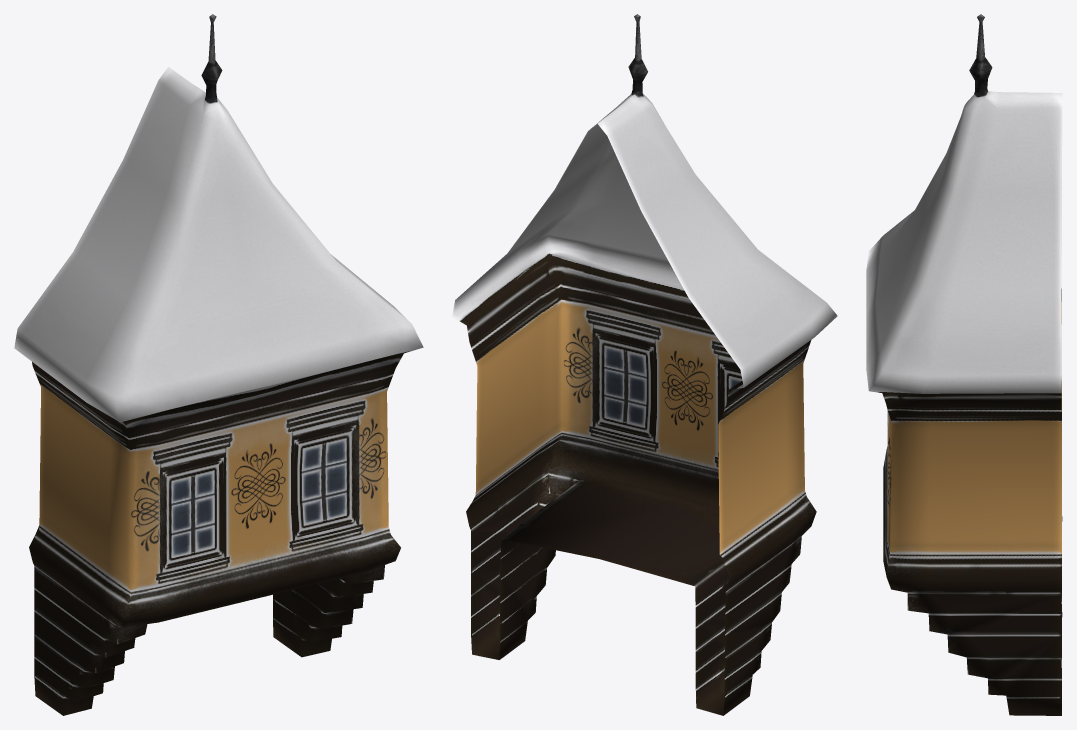
The model's file is Extension-3.FBX.
The picture shows the model from 3 angles, left to right: view 1: azimuth 30°, elevation 25°; view 2: azimuth 150°, elevation 25°; view 3: azimuth 270°, elevation 25°; orthographic projection. The views are drawn at different scales.
Parts seen in each view (by area): view 1: Extension-3; view 2: Extension-3; view 3: Extension-3.
Boxes of the visible parts, x1=… form: Extension-3: x1=14, y1=14, x2=423, y2=715; Extension-3: x1=452, y1=14, x2=837, y2=715; Extension-3: x1=866, y1=14, x2=1062, y2=715.
Bounding box in the file's own units: 31.05 × 64.64 × 17.96.
1 material, 1 textured.
